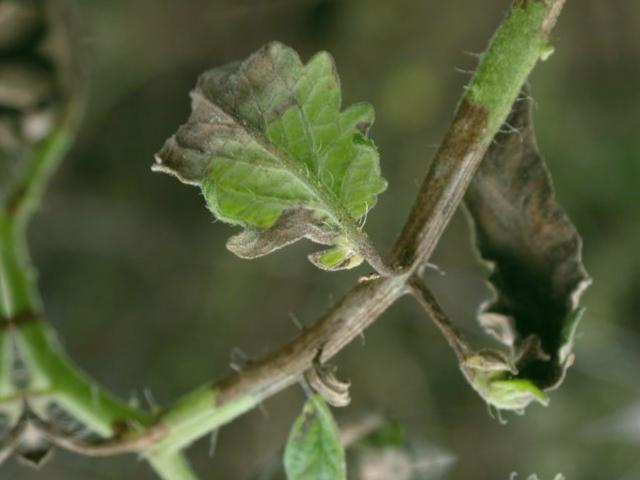Tomato leaf late blight: (130, 12, 412, 298)
